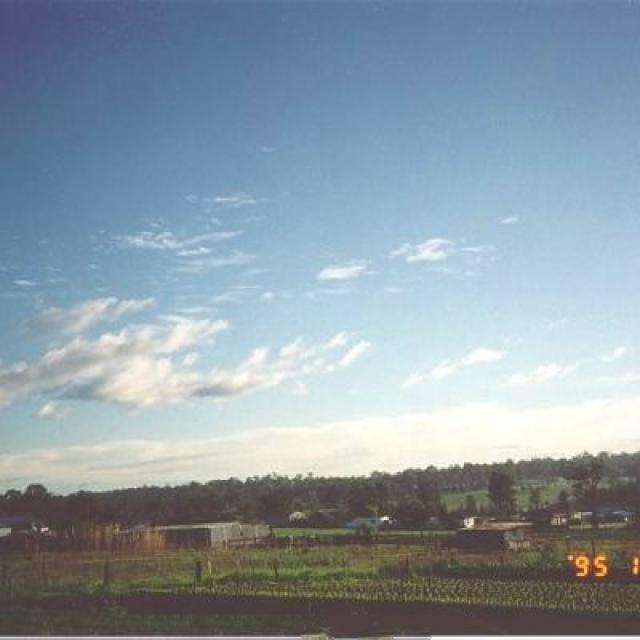Cc: (2, 152, 557, 451)
